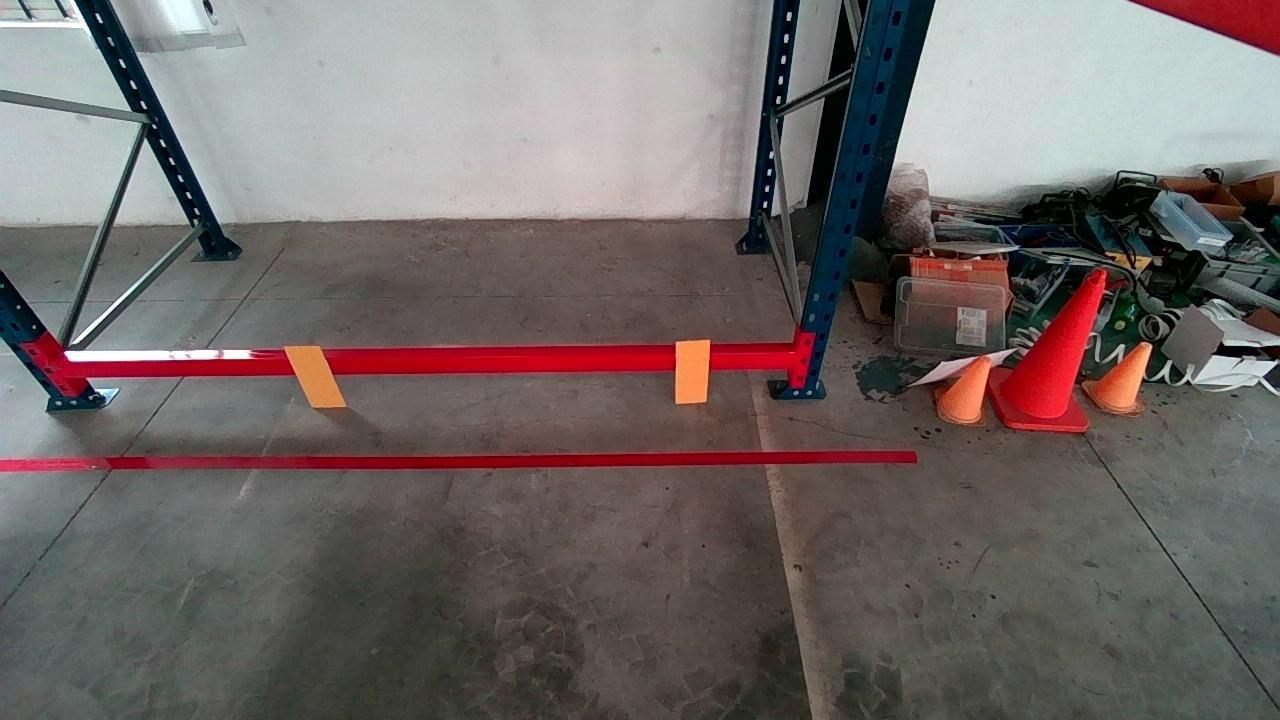h_rack: (53, 351, 791, 379)
orange_strip: (286, 344, 345, 407), (675, 339, 709, 401)
red_line: (0, 449, 919, 473)
